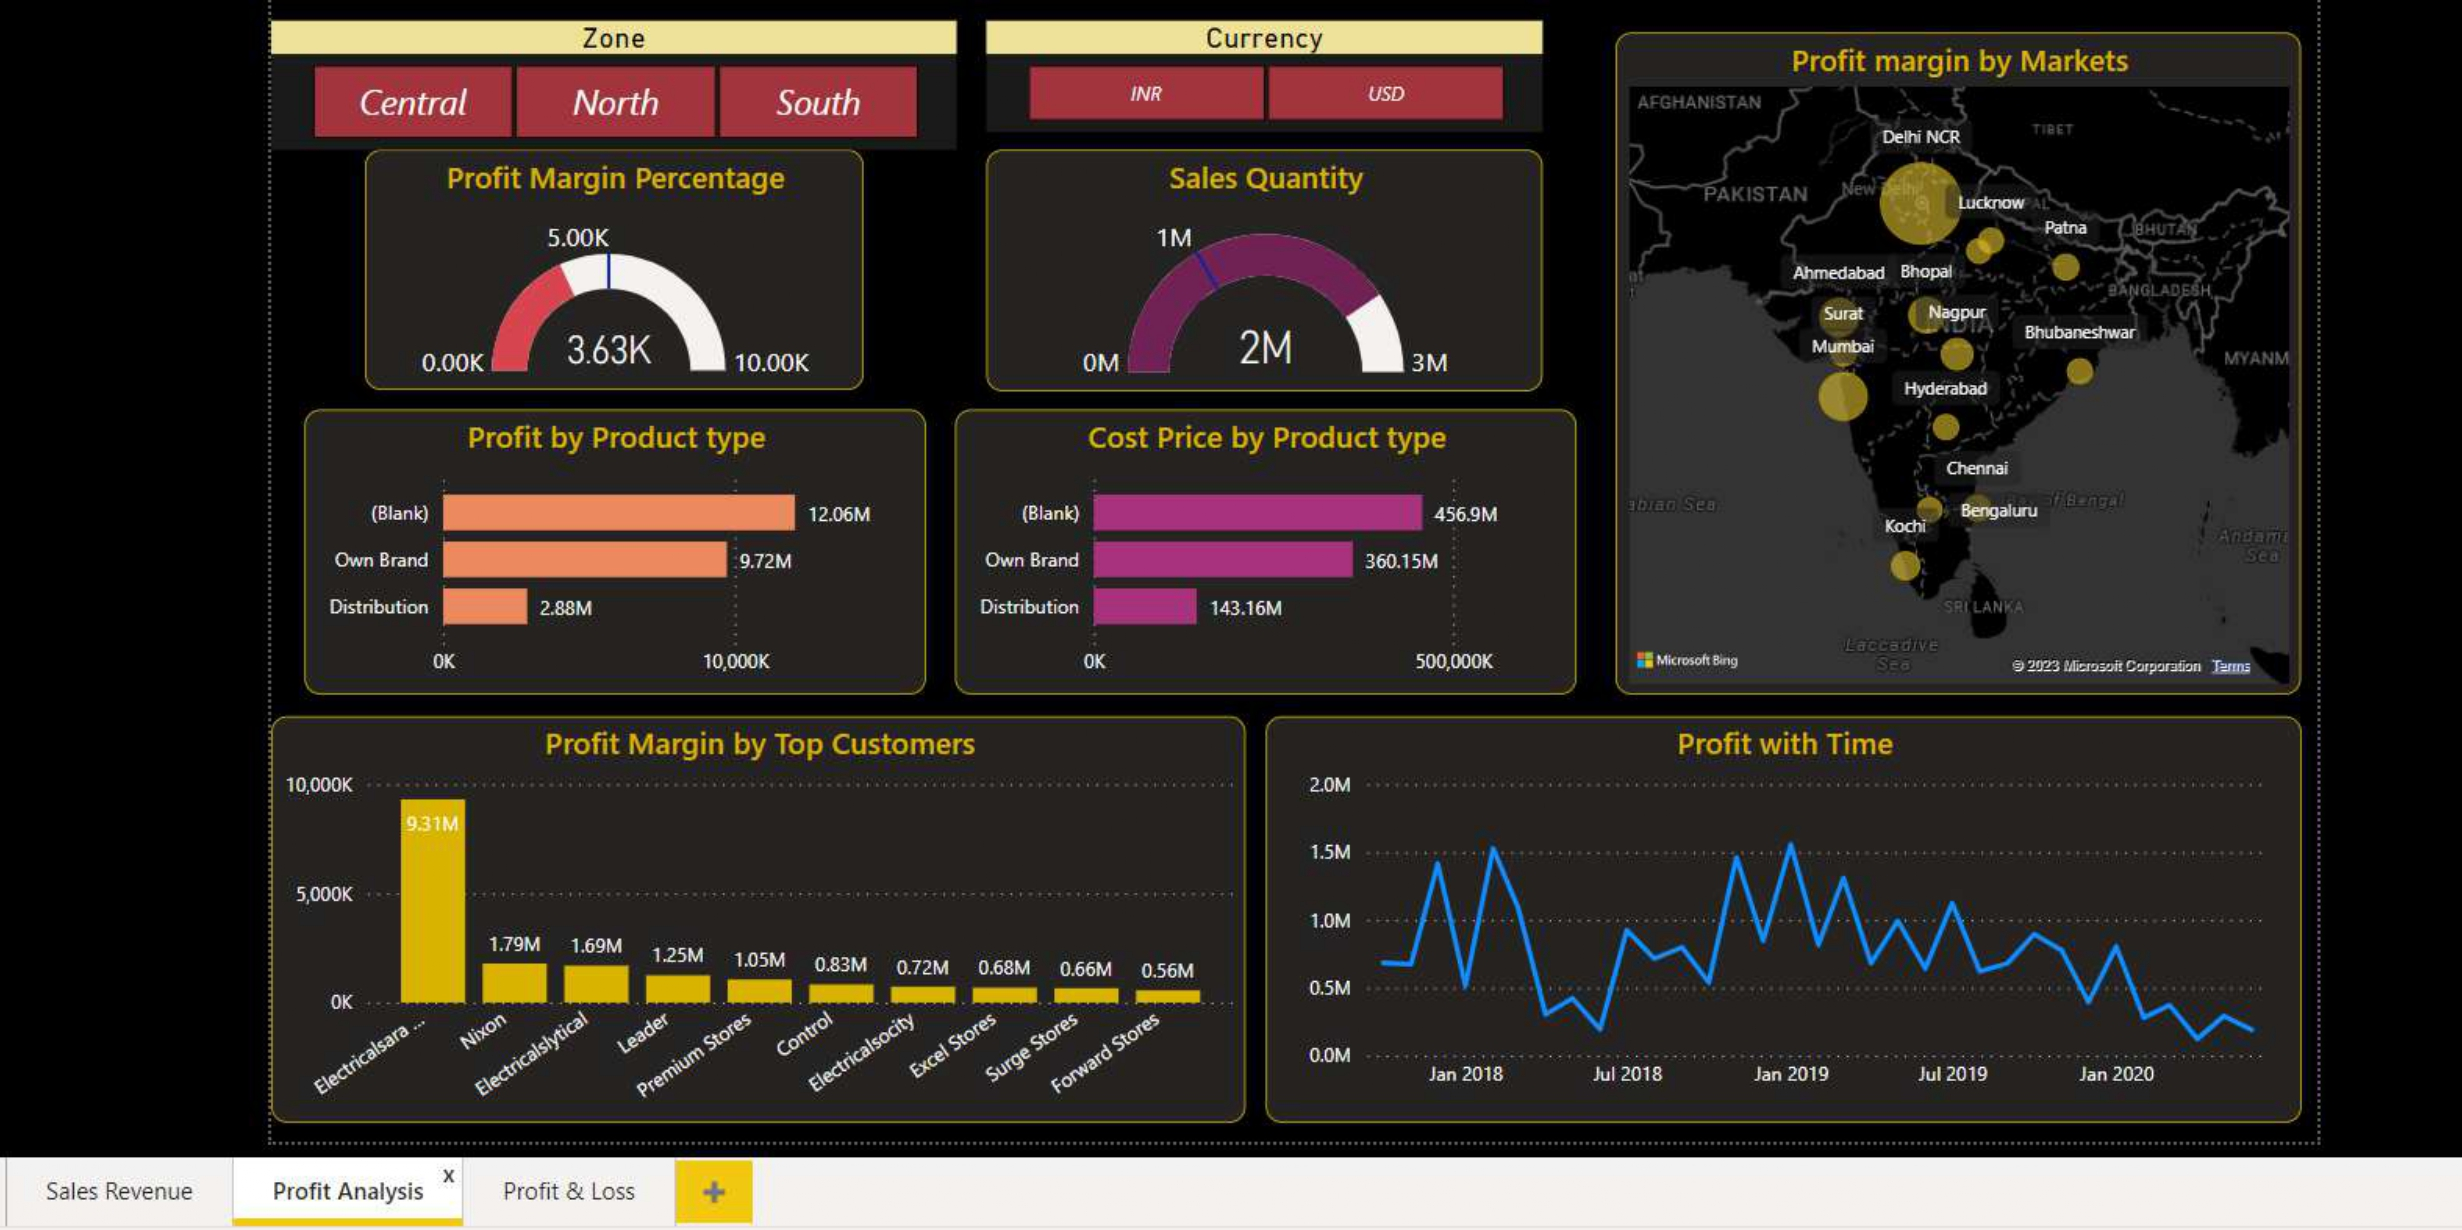

The page's visual inventory and layout, read from the dashboard file:
{"tool":"powerbi","page":{"name":"Profit Analysis","canvas":[1280,720],"ordinal":1},"visuals":[{"type":"barChart","title":"Cost Price by Product type","fields":{"Category":["products.product_type"],"Y":["transactions.cost_price"]},"box":[427.8,261.6,388.7,178.5],"z":0},{"type":"columnChart","title":"Profit Margin by Top Customers","fields":{"Category":["customers.custmer_name"],"Y":["transactions.profit_margin"]},"box":[0,453.5,610,254.3],"z":1000},{"type":"gauge","title":"Profit Margin Percentage","fields":{"Y":["transactions.profit_margin_percentage"]},"box":[58.7,99,311.7,150.4],"z":2000},{"type":"gauge","title":"Sales Quantity","fields":{"Y":["transactions.sales_qty"]},"box":[447.4,99,348.4,151.6],"z":3000},{"type":"map","title":"Profit margin by Markets","fields":{"Category":["markets.markets_name"],"Size":["transactions.profit_margin"]},"box":[841,25.7,429.1,414.4],"z":4000},{"type":"slicer","title":"Zone","fields":{"Values":["markets.zone"]},"box":[0,18.3,429.1,80.7],"z":5000},{"type":"lineChart","title":"Profit with Time","fields":{"Category":["date.cy_date"],"Y":["transactions.profit_margin"]},"box":[622.2,453.5,647.9,254.3],"z":6000},{"type":"slicer","title":"Currency","fields":{"Values":["transactions.currency"]},"box":[447.4,18.3,348.4,69.7],"z":7000},{"type":"barChart","title":"Profit by Product type","fields":{"Category":["products.product_type"],"Y":["transactions.profit_margin"]},"box":[20.8,261.6,388.7,178.5],"z":8000}]}

Visuals, with their boxes on the page's 1280x720 design canvas (x1, y1, x2, y2). These are canvas units, not pixel positions in the 2462x1230 screenshot, which may show the page scaled, cropped or inside an application window:
"Cost Price by Product type" barChart: {"x1": 428, "y1": 262, "x2": 816, "y2": 440}
"Profit Margin by Top Customers" columnChart: {"x1": 0, "y1": 454, "x2": 610, "y2": 708}
"Profit Margin Percentage" gauge: {"x1": 59, "y1": 99, "x2": 370, "y2": 249}
"Sales Quantity" gauge: {"x1": 447, "y1": 99, "x2": 796, "y2": 251}
"Profit margin by Markets" map: {"x1": 841, "y1": 26, "x2": 1270, "y2": 440}
"Zone" slicer: {"x1": 0, "y1": 18, "x2": 429, "y2": 99}
"Profit with Time" lineChart: {"x1": 622, "y1": 454, "x2": 1270, "y2": 708}
"Currency" slicer: {"x1": 447, "y1": 18, "x2": 796, "y2": 88}
"Profit by Product type" barChart: {"x1": 21, "y1": 262, "x2": 410, "y2": 440}
